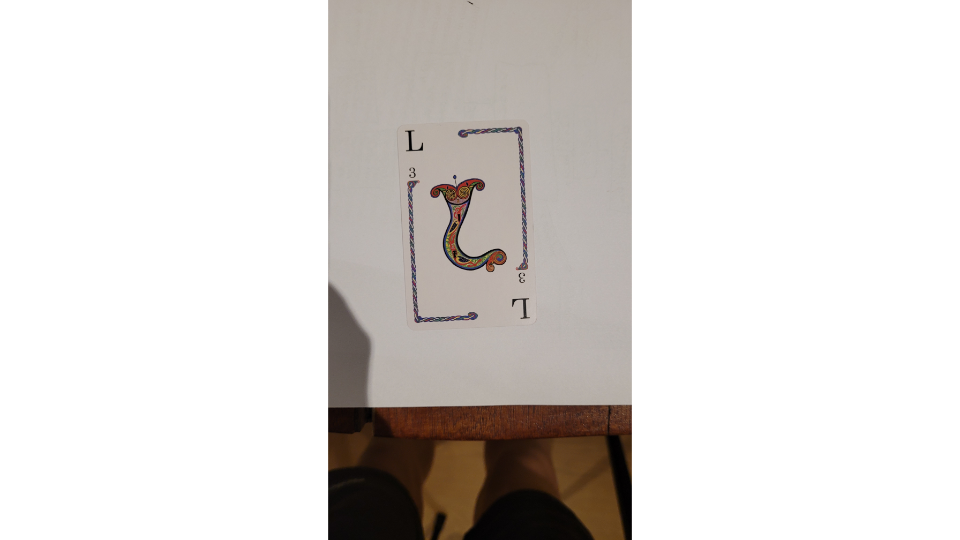L: (393, 117, 543, 333)
